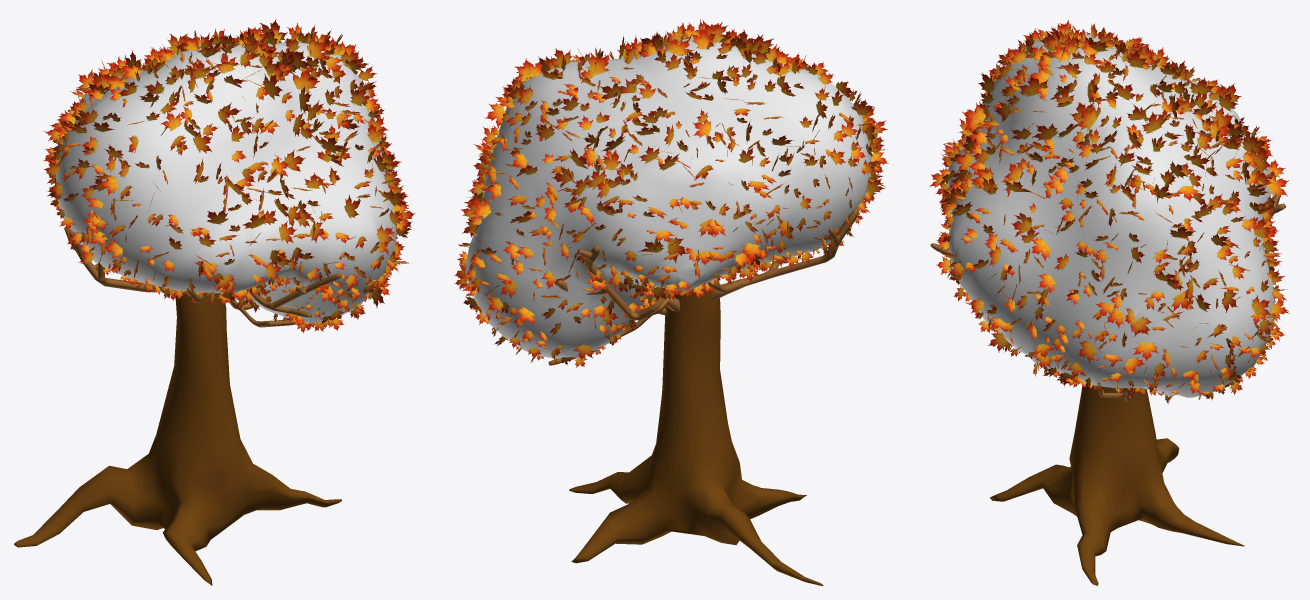
The model's file is PUU.fbx.
3 renders of one model, left to right at view 1: azimuth 30°, elevation 25°; view 2: azimuth 150°, elevation 25°; view 3: azimuth 270°, elevation 25°, orthographic. The views are drawn at different scales.
Parts seen in each view (by area): view 1: Sphere, LEHDET, PUU.lp, OKSA4, OKSA2; view 2: Sphere, LEHDET, PUU.lp, OKSA4, OKSA1; view 3: Sphere, LEHDET, PUU.lp.
Part boxes in pixels (x1=…): Sphere: x1=55, y1=41, x2=396, y2=323; LEHDET: x1=43, y1=19, x2=415, y2=333; PUU.lp: x1=14, y1=292, x2=341, y2=585; OKSA4: x1=64, y1=227, x2=203, y2=303; OKSA2: x1=247, y1=273, x2=341, y2=317; Sphere: x1=465, y1=37, x2=871, y2=358; LEHDET: x1=454, y1=19, x2=888, y2=367; PUU.lp: x1=569, y1=279, x2=823, y2=585; OKSA4: x1=665, y1=208, x2=859, y2=308; OKSA1: x1=555, y1=245, x2=680, y2=320; Sphere: x1=948, y1=34, x2=1274, y2=397; LEHDET: x1=929, y1=20, x2=1289, y2=403; PUU.lp: x1=990, y1=385, x2=1244, y2=585.
Bounding box in the file's own units: 675 × 884 × 604.
